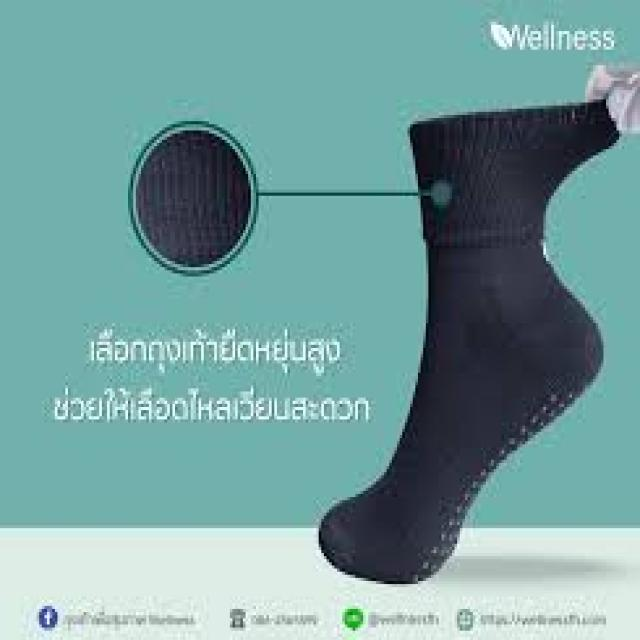sock: (316, 65, 637, 584)
